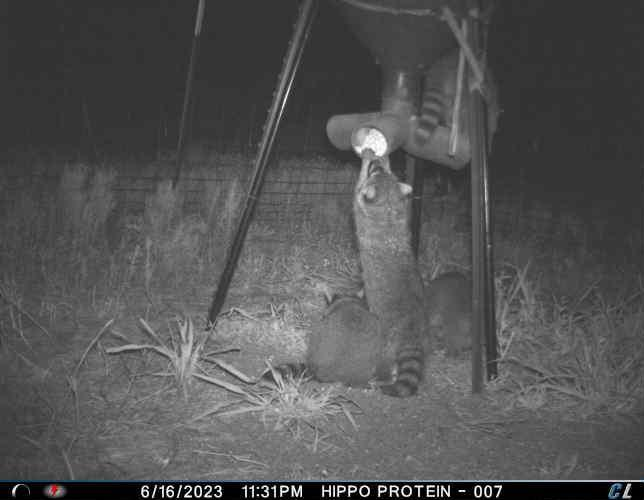Raccoon: (355, 146, 426, 399), (259, 284, 382, 391), (418, 269, 477, 362)
